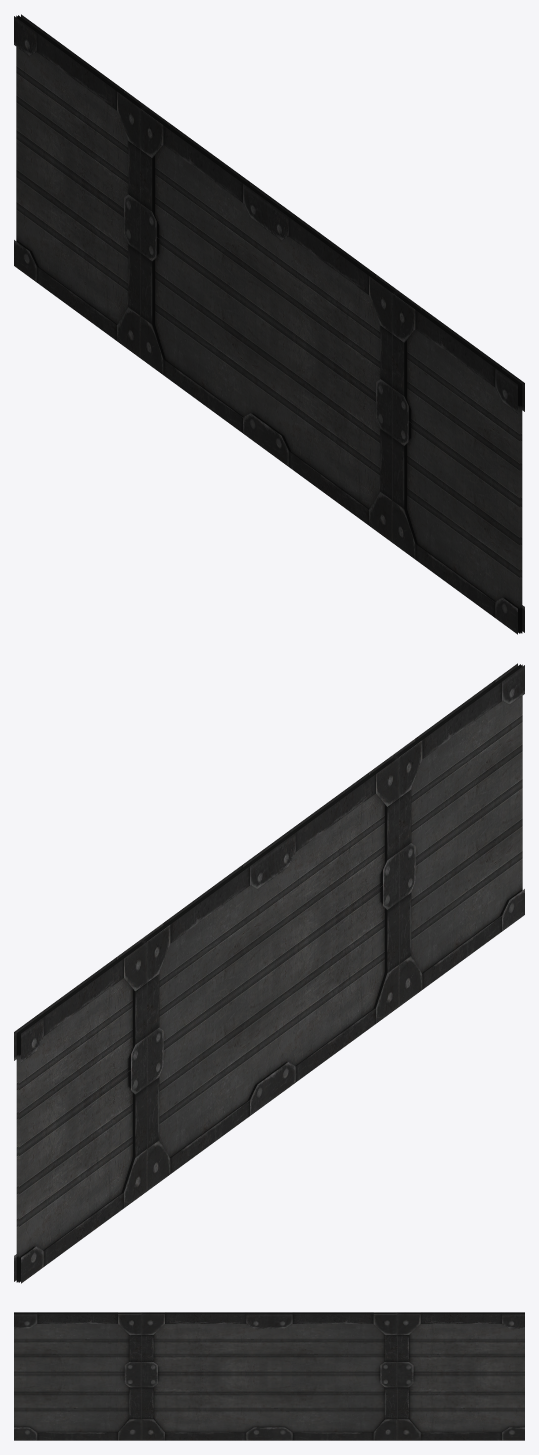
File: p6_metal_panel_railing_128_lod1.glb
The picture shows the model from 3 angles, top to bottom: view 1: azimuth 30°, elevation 25°; view 2: azimuth 150°, elevation 25°; view 3: azimuth 270°, elevation 25°; orthographic projection. The views are drawn at different scales.
Visible parts, largest first — view 1: surf0; view 2: surf0; view 3: surf0.
Part boxes in pixels (x1=…): surf0: x1=14, y1=14, x2=524, y2=634; surf0: x1=14, y1=663, x2=524, y2=1283; surf0: x1=14, y1=1312, x2=524, y2=1440.
Bounding box in the file's own units: 1.02 × 35.03 × 128.
